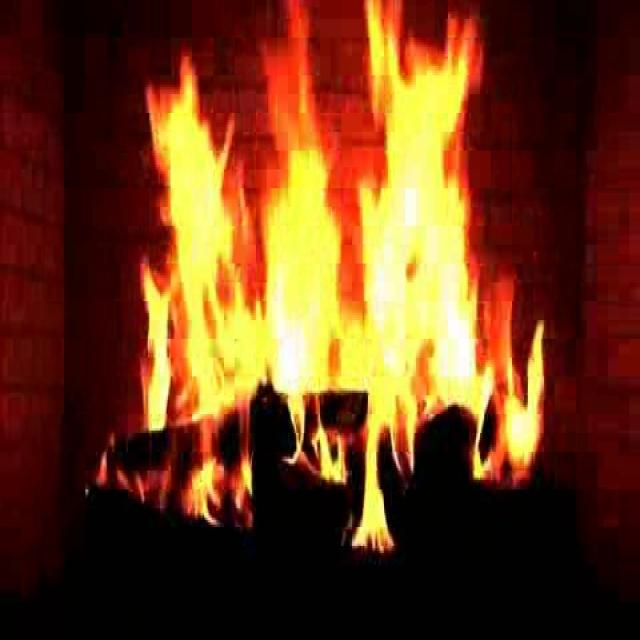Fire: (102, 0, 565, 581)
